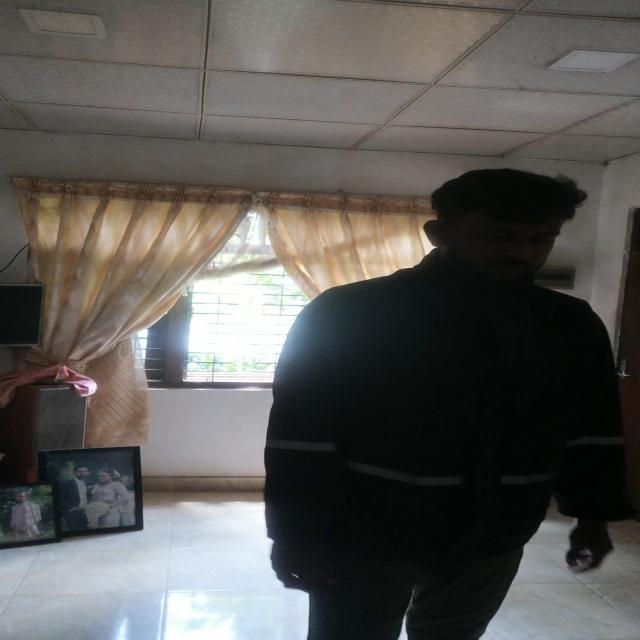Jacket_Wearer: (255, 272, 640, 634)
Person: (252, 144, 640, 640)
